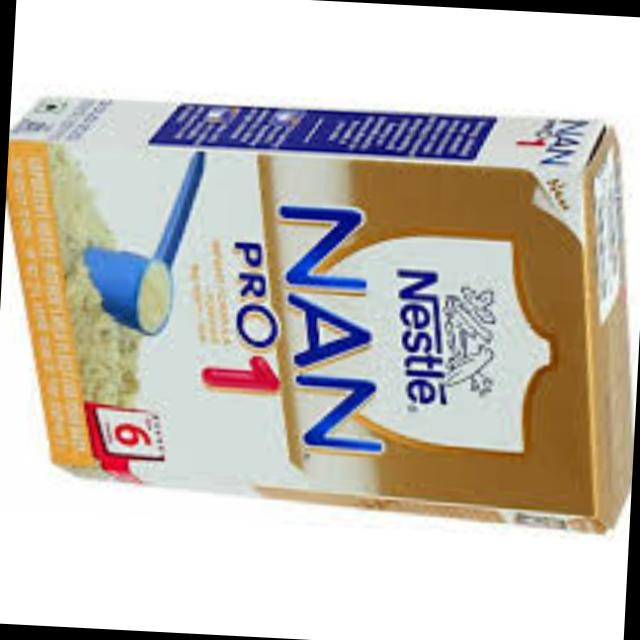cardboard paper: (8, 93, 636, 525)
